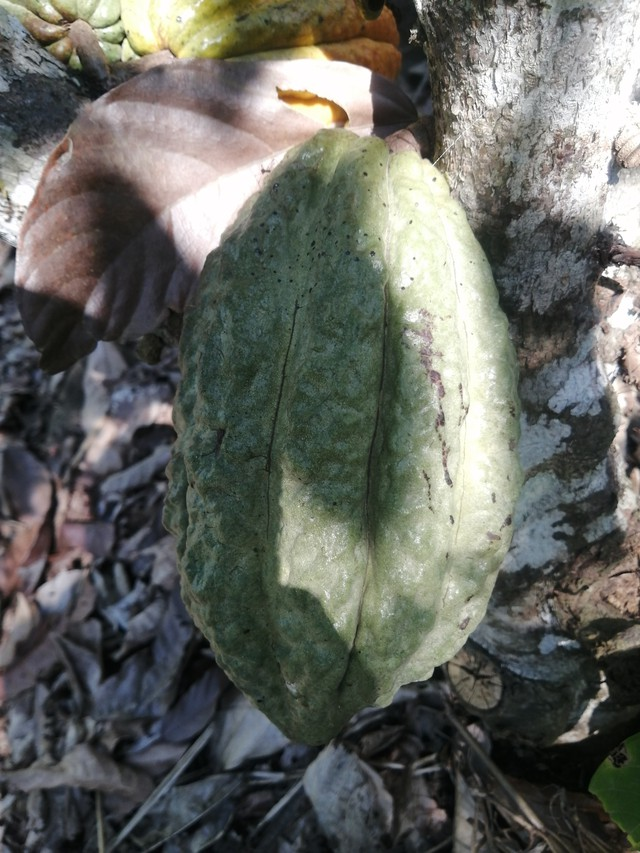Health: (143, 109, 551, 755)
